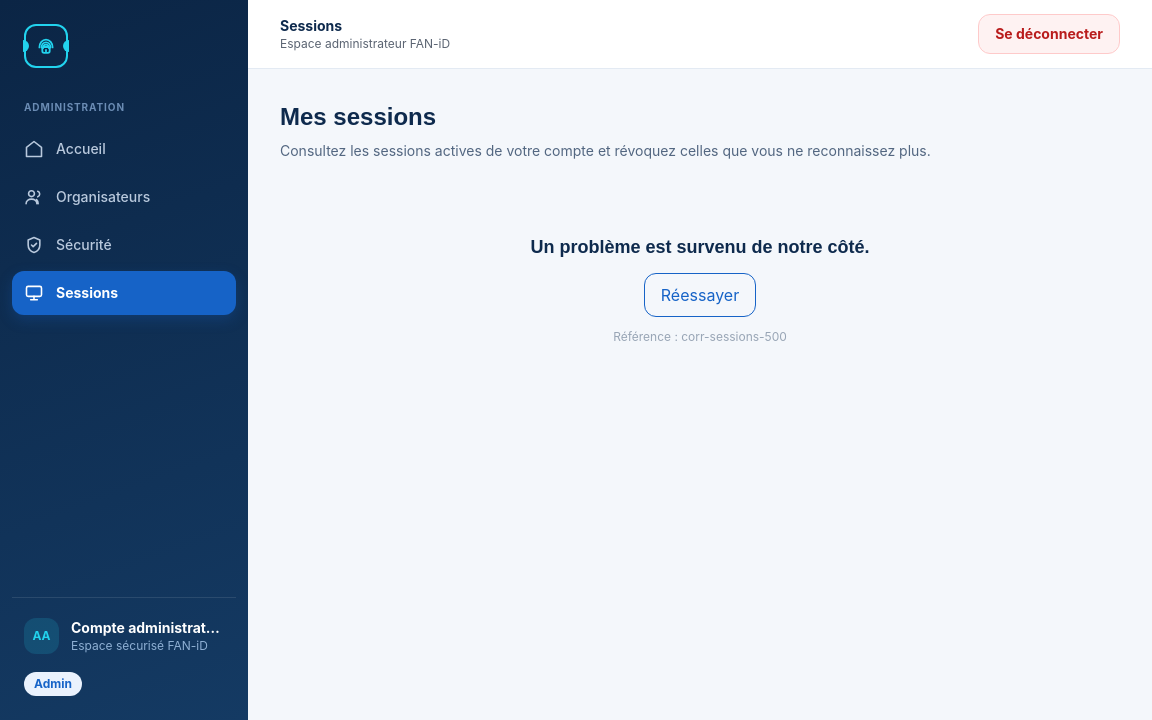
Test: SessionsPage › permet de réessayer la liste après une erreur serveur
This screenshot has width=1152, height=720.
Check: the text "Un problème est survenu de notre côté." is shown, box x1=530 y1=233 x2=870 y2=261
Click the button "Réessayer" at (700, 295), box x1=644 y1=273 x2=756 y2=317
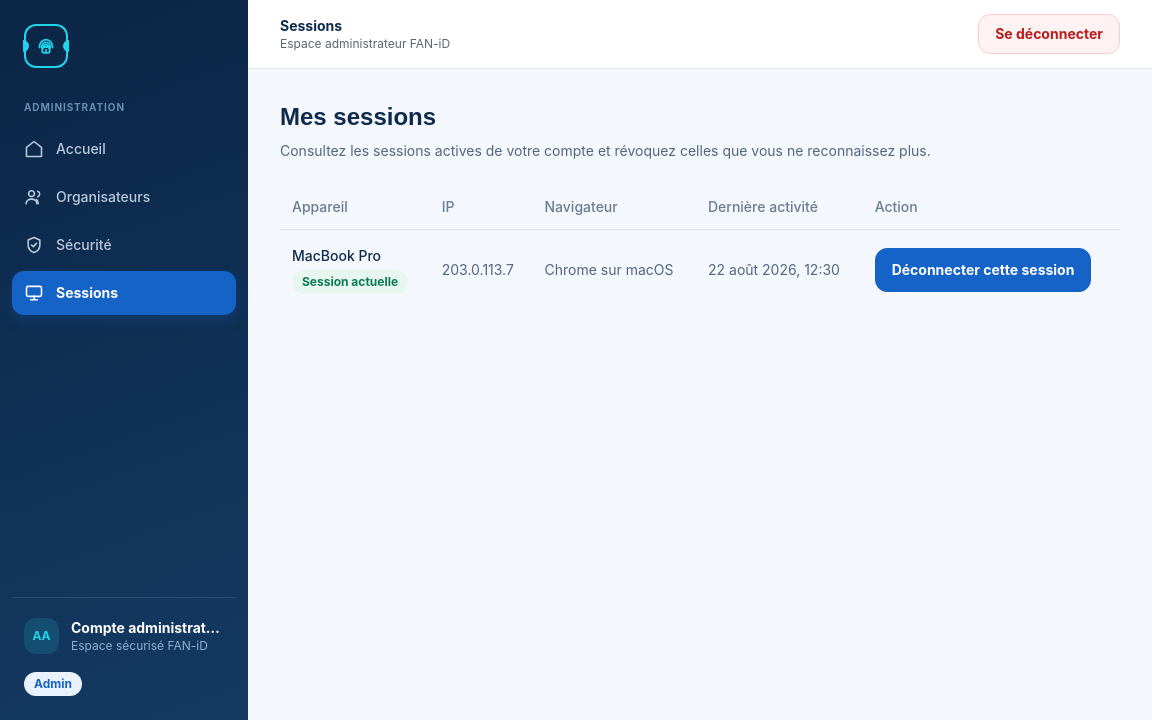
Check: the text "MacBook Pro" is shown, box x1=292 y1=247 x2=381 y2=264
